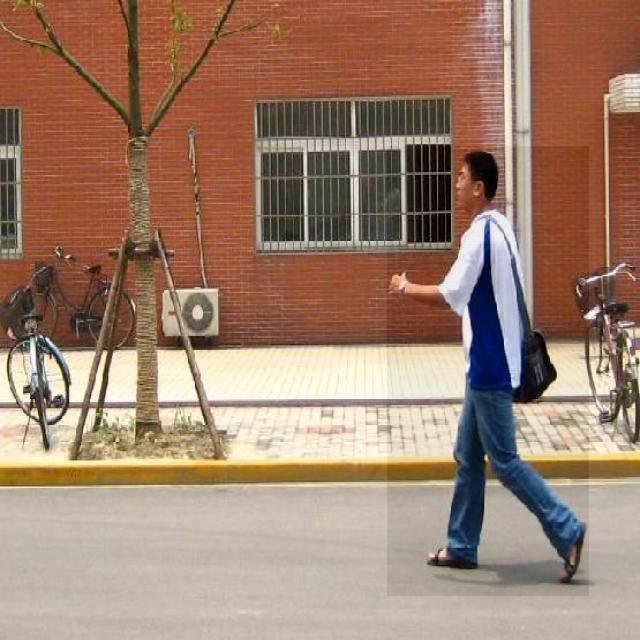with scooter: (387, 146, 589, 596)
